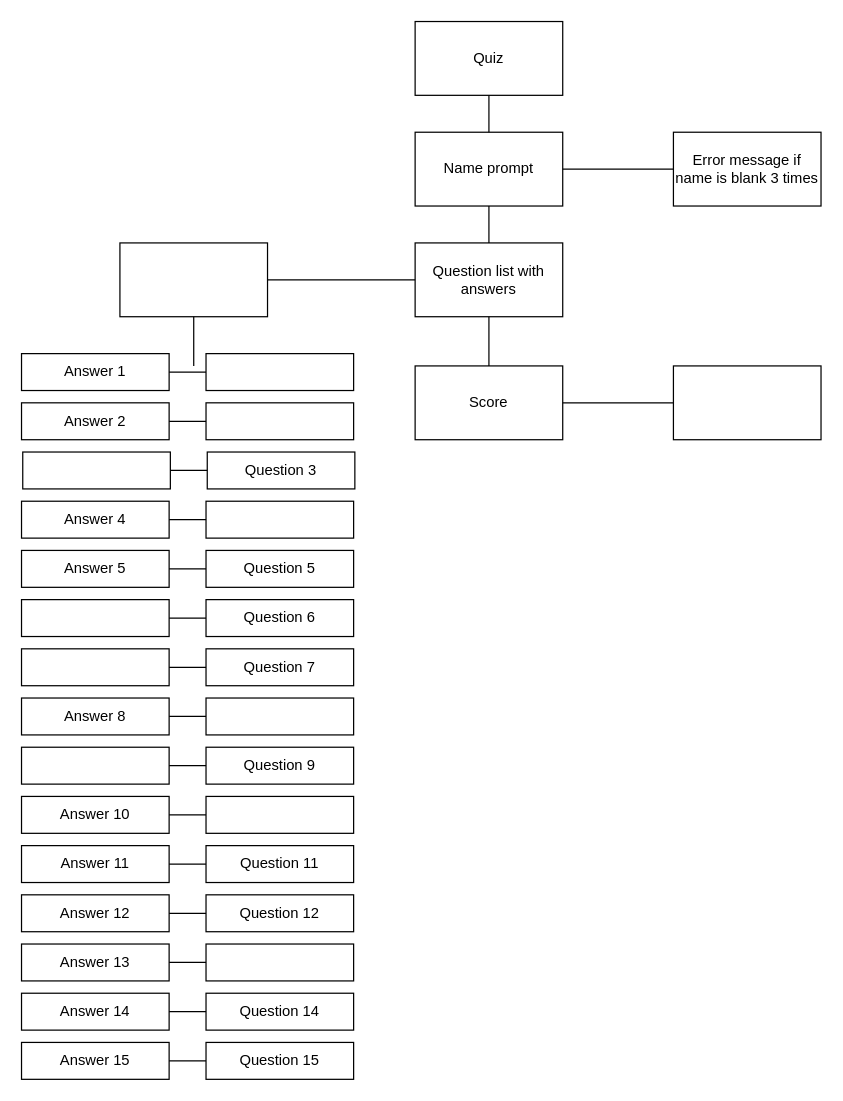
This 843x1101 diagram has some shape labels left out. Each missing label, with the box of its shape:
Answer 3: (22, 451, 170, 489)
Answer 6: (20, 598, 169, 637)
Answer 7: (20, 648, 169, 686)
Answer 9: (20, 746, 169, 784)
Opportunity to gamble score: (672, 365, 821, 440)
Question 1: (205, 352, 354, 391)
Question 10: (205, 795, 354, 833)
Question 13: (205, 943, 354, 981)
Question 2: (205, 402, 354, 440)
Question 4: (205, 500, 354, 538)
Question 8: (205, 697, 354, 735)
Question Class: (119, 242, 268, 317)
